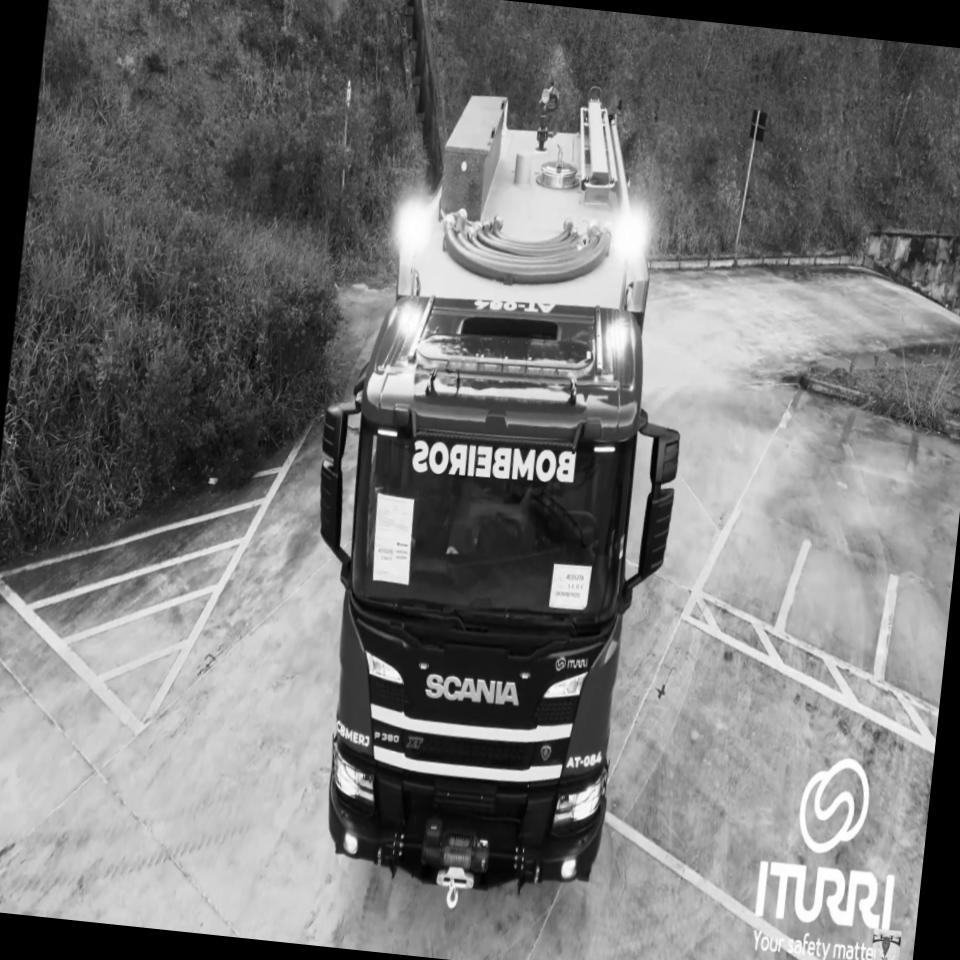viatura: (272, 61, 719, 926)
